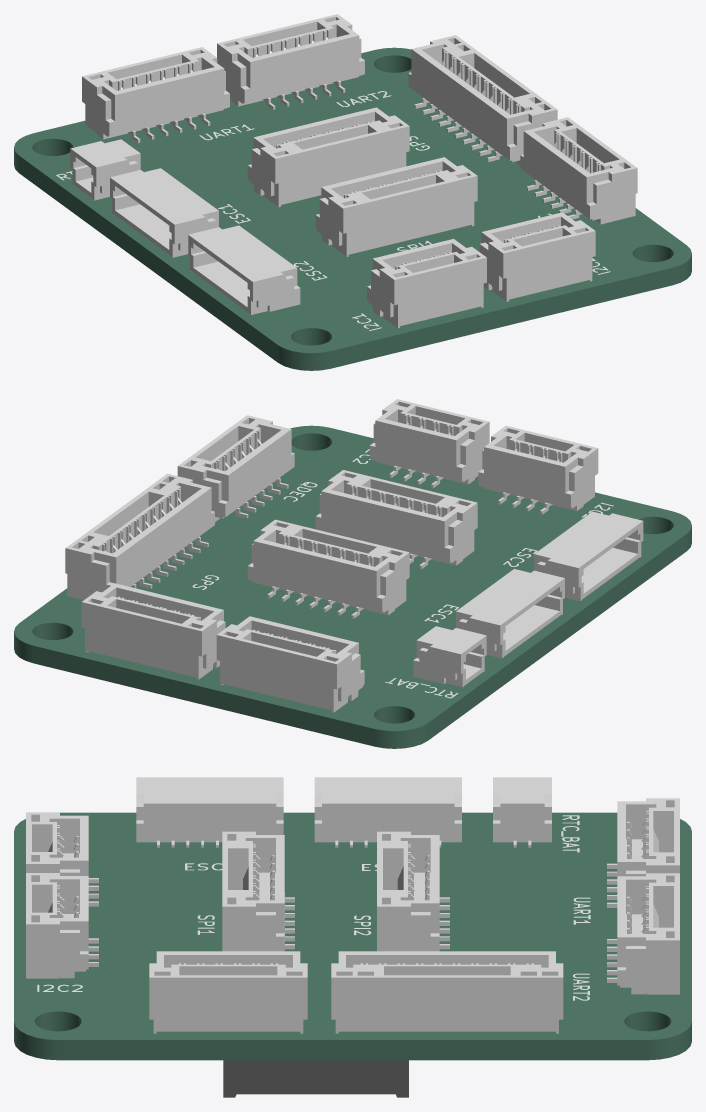
File: 29c1ffc3-flex_io.glb
The picture shows the model from 3 angles, top to bottom: view 1: azimuth 30°, elevation 25°; view 2: azimuth 150°, elevation 25°; view 3: azimuth 270°, elevation 25°; orthographic projection. The views are drawn at different scales.
Parts seen in each view (by area): view 1: pcb, spi1, gps, spi2, uart1, uart2, qdec, i2c1, i2c2, esc2, esc1, rtc_bat; view 2: pcb, gps, spi2, spi1, uart1, uart2, i2c1, i2c2, qdec, esc2, esc1, rtc_bat; view 3: pcb, gps, qdec, esc2, esc1, spi2, spi1, uart2, i2c2, j2, uart1, i2c1 (+1 smaller).
Part boxes in pixels (x1,y1,x2,y2): pcb: [14, 47, 691, 370]; spi1: [315, 157, 477, 256]; gps: [408, 35, 557, 165]; spi2: [247, 107, 409, 207]; uart1: [82, 47, 229, 142]; uart2: [217, 14, 364, 109]; qdec: [520, 117, 637, 224]; i2c1: [367, 239, 486, 328]; i2c2: [479, 212, 595, 301]; esc2: [188, 225, 300, 314]; esc1: [110, 168, 218, 257]; rtc_bat: [70, 139, 140, 200]; pcb: [14, 425, 691, 748]; gps: [65, 473, 214, 599]; spi2: [247, 519, 409, 618]; spi1: [315, 470, 477, 569]; uart1: [216, 616, 364, 712]; uart2: [81, 583, 225, 679]; i2c1: [478, 425, 598, 514]; i2c2: [369, 399, 489, 488]; qdec: [177, 415, 294, 521]; esc2: [534, 511, 643, 601]; esc1: [456, 569, 564, 658]; rtc_bat: [413, 626, 486, 687]; pcb: [14, 812, 691, 1060]; gps: [331, 951, 563, 1033]; qdec: [149, 951, 307, 1033]; esc2: [136, 777, 283, 847]; esc1: [314, 777, 461, 847]; spi2: [377, 831, 449, 951]; spi1: [222, 831, 294, 951]; uart2: [607, 873, 679, 994]; i2c2: [26, 873, 98, 978]; j2: [223, 1060, 408, 1097]; uart1: [607, 798, 679, 907]; i2c1: [26, 812, 98, 906].
Size of the model in its own units: 0.0365 by 0.00978 by 0.046.
